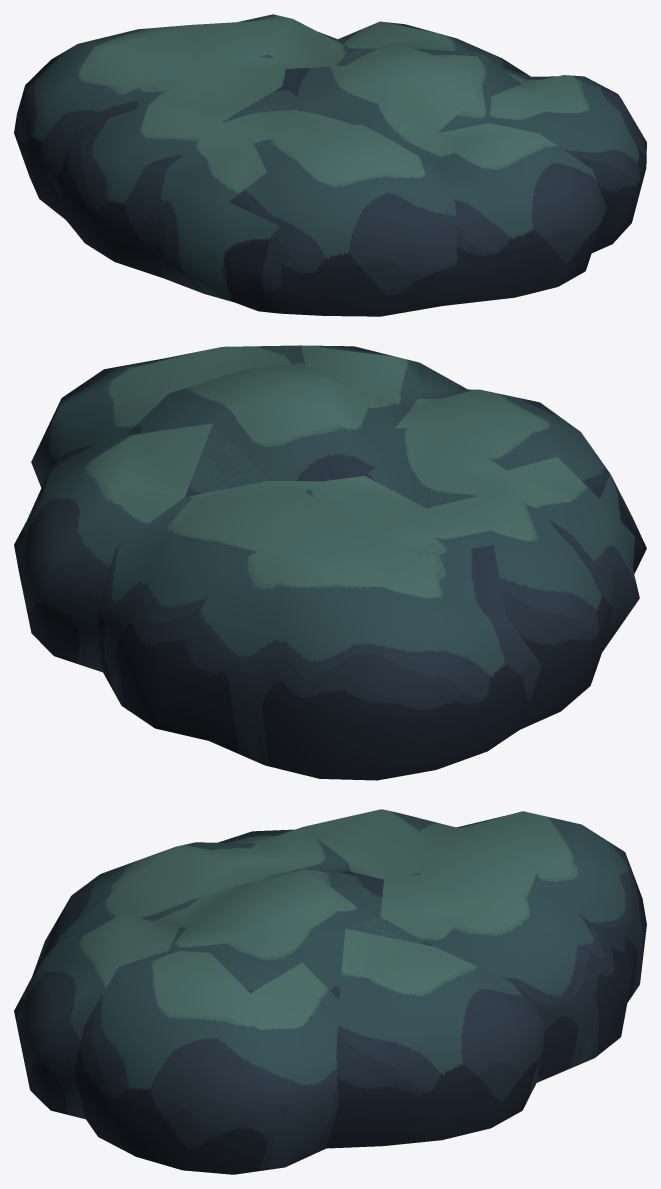
The model's file is Common Brain Coral 6_preview_3DS_simplified.glb.
The picture shows the model from 3 angles, top to bottom: view 1: azimuth 30°, elevation 25°; view 2: azimuth 150°, elevation 25°; view 3: azimuth 270°, elevation 25°; orthographic projection. The views are drawn at different scales.
Visible parts, largest first — view 1: Marine Park Empire model; view 2: Marine Park Empire model; view 3: Marine Park Empire model.
Part boxes in pixels (x1,y1,x2,y2): Marine Park Empire model: (14,14,646,316); Marine Park Empire model: (14,345,646,780); Marine Park Empire model: (14,809,646,1174).
Size of the model in its own units: 181 by 54.35 by 179.
1 material, 1 textured.
